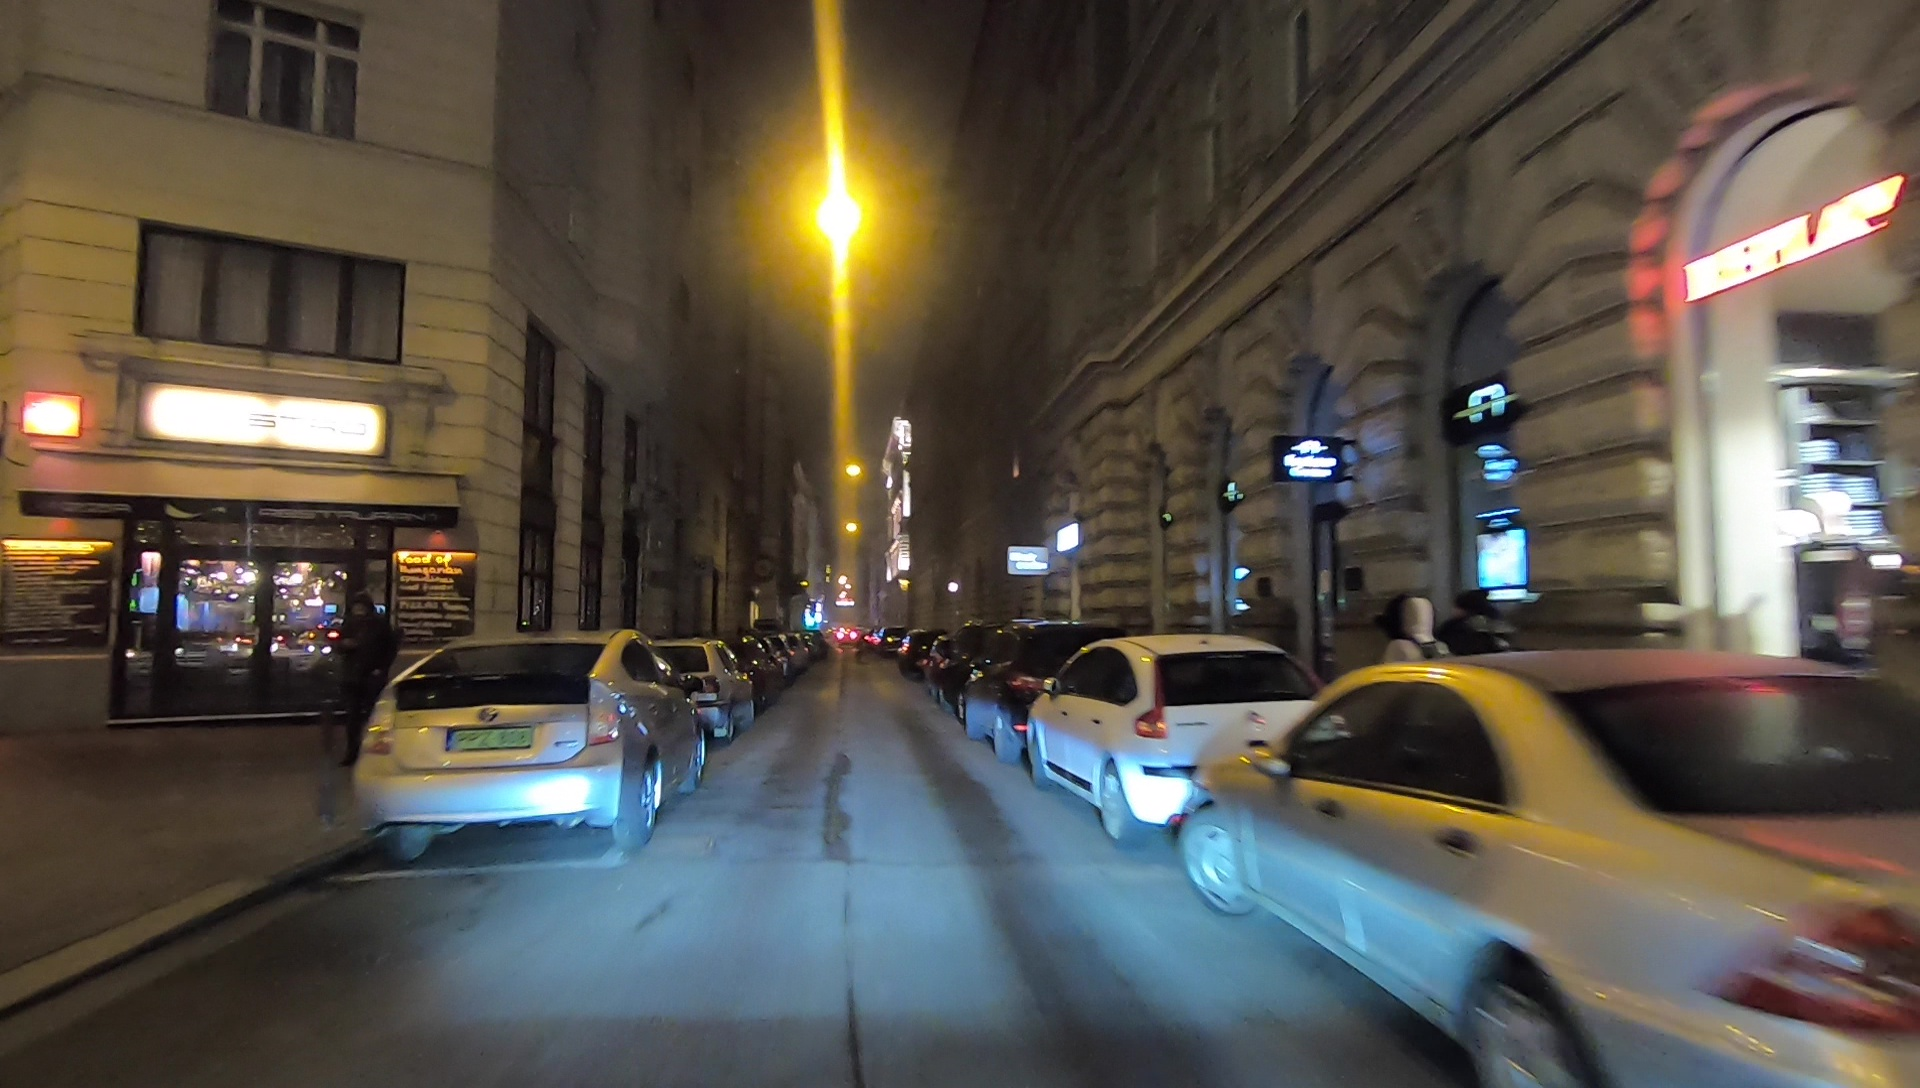person: (345, 600, 389, 754)
